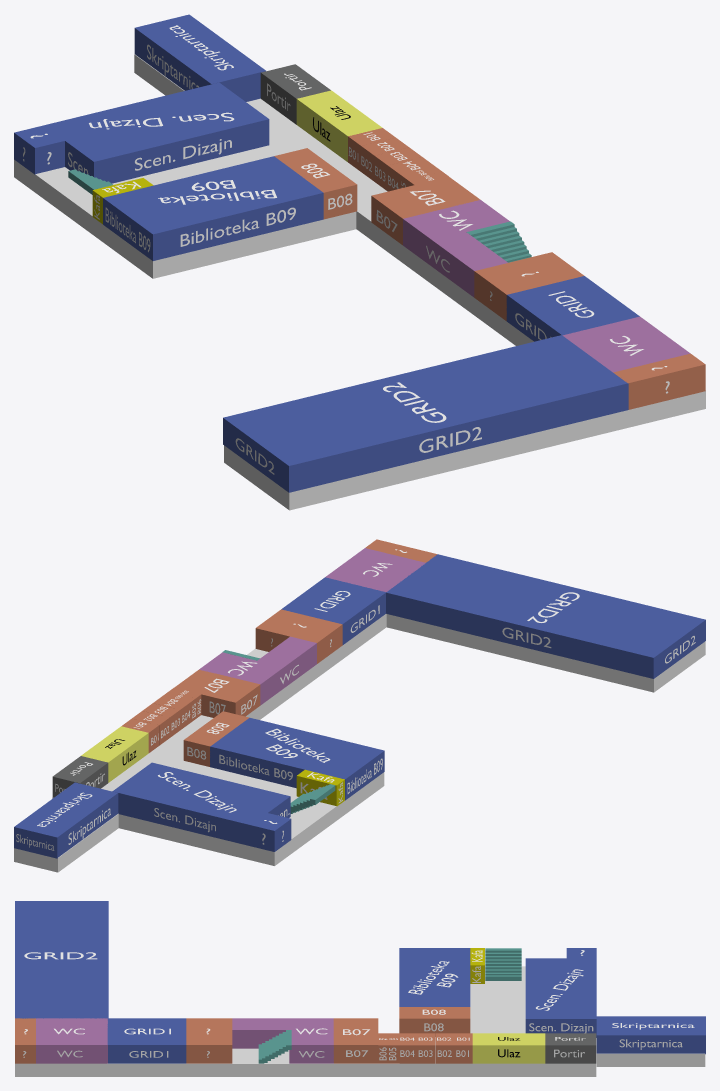
The model's file is NastavniBlok1.glb.
3 views of the same model, one above another, from view 1: azimuth 30°, elevation 25°; view 2: azimuth 150°, elevation 25°; view 3: azimuth 270°, elevation 25° (orthographic). The views are drawn at different scales.
Parts seen in each view (by area): view 1: GR2, Biblioteka, ScenDizajn, UlazHol, GridDeo, Skriptarnica, GR1, WC2, KodWCUcionica, KodWCUcionica2, DugackiHodnik, B007 (+11 smaller); view 2: GR2, ScenDizajn, Biblioteka, UlazHol, Skriptarnica, GridDeo, GR1, KodWCUcionica, B007, WC2, DugackiHodnik, WC1 (+12 smaller); view 3: GR2, UlazHol, ScenDizajn, DugackiHodnik, Biblioteka, Skriptarnica, GR1, WC2, VrataUlazna, KodWCUcionica, B007, WC1 (+17 smaller).
Part boxes in pixels (x1,y1,x2,y2): GR2: (223,335,628,492); Biblioteka: (103,156,323,260); ScenDizajn: (44,82,269,183); UlazHol: (14,98,387,278); GridDeo: (224,390,705,510); Skriptarnica: (134,14,265,101); GR1: (506,276,639,341); WC2: (562,316,690,372); KodWCUcionica: (474,252,584,320); KodWCUcionica2: (613,353,705,409); DugackiHodnik: (356,207,533,345); B007: (371,177,480,245); GR2: (386,554,705,678); ScenDizajn: (112,762,290,846); Biblioteka: (210,717,384,800); UlazHol: (52,723,384,865); Skriptarnica: (14,782,118,858); GridDeo: (386,614,705,692); GR1: (281,577,385,644); KodWCUcionica: (255,609,342,663); B007: (174,669,260,717); WC2: (325,548,425,591); DugackiHodnik: (190,614,386,726); WC1: (199,652,284,705); GR2: (15,901,108,1018); UlazHol: (399,966,596,1076); ScenDizajn: (525,958,596,1037); DugackiHodnik: (106,1048,399,1076); Biblioteka: (399,948,470,1006); Skriptarnica: (596,1016,705,1054); GR1: (107,1018,186,1063); WC2: (36,1018,107,1063); VrataUlazna: (472,1033,545,1063); KodWCUcionica: (186,1018,232,1063); B007: (333,1018,378,1063); WC1: (289,1018,333,1063).
Bounding box in the file's own units: 5 × 0.5135 × 10.12.
